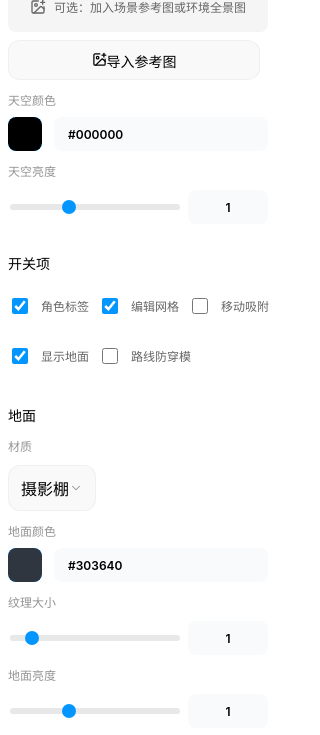
Test case: hides ground opacity and height controls when ground is disabled
(page scrolled)
Check: the number field named "地面纹理大小" is shown, box 188,621 -> 268,655
Click the checkbox named "显示地面": point(20, 356) 12,348 -> 28,364
(page scrolled)
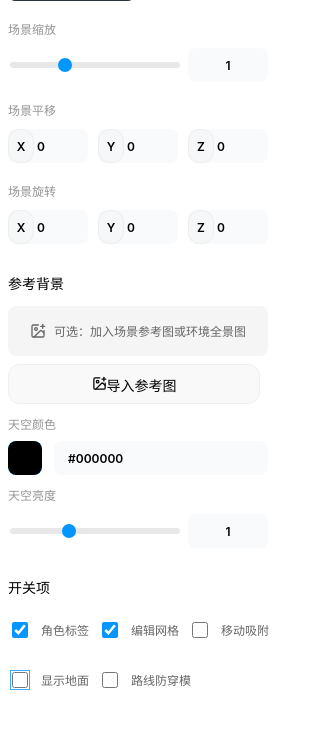
Check: the number field labelled "地面纹理大小" is gone
